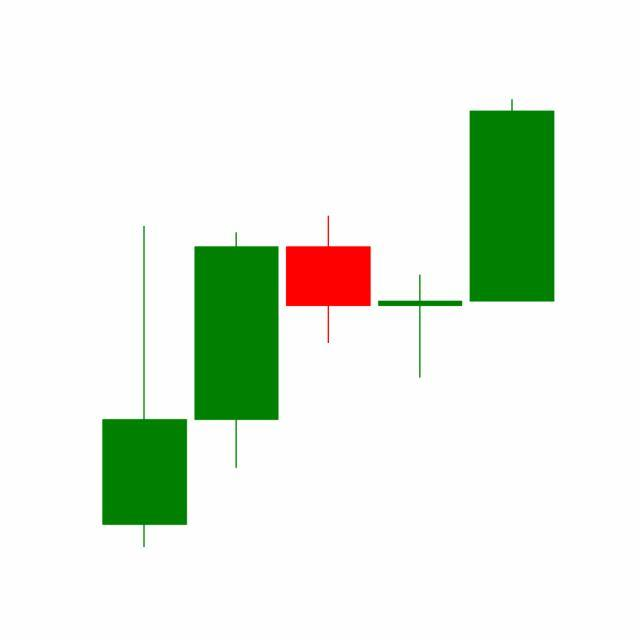Marubozu: (466, 97, 559, 304)
